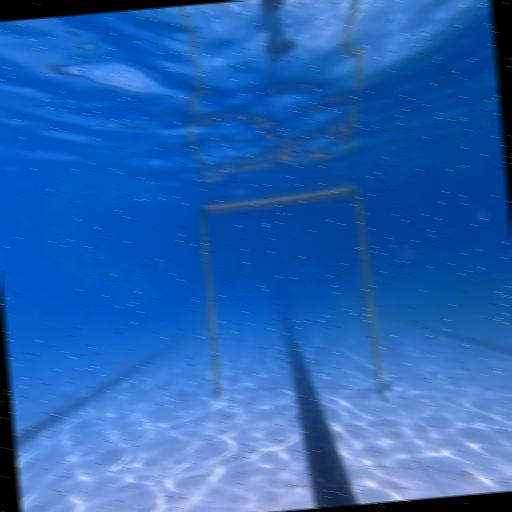gate: (197, 182, 393, 406)
